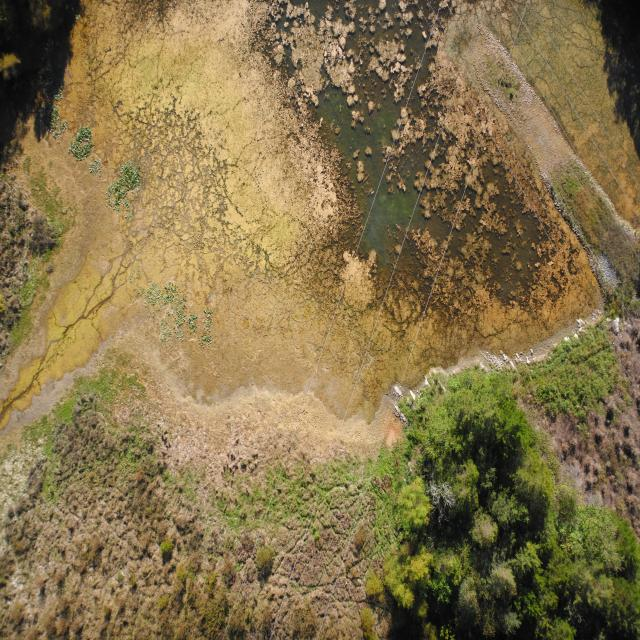Area of Interest: (380, 386, 636, 629)
